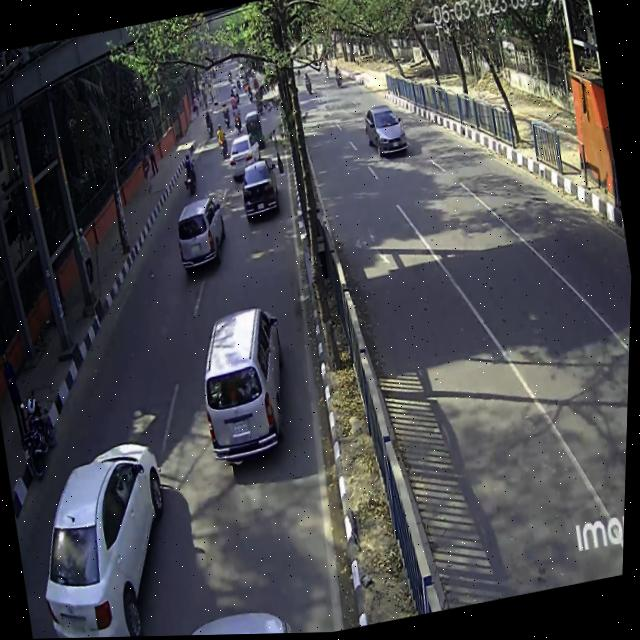cng: (244, 110, 266, 152)
